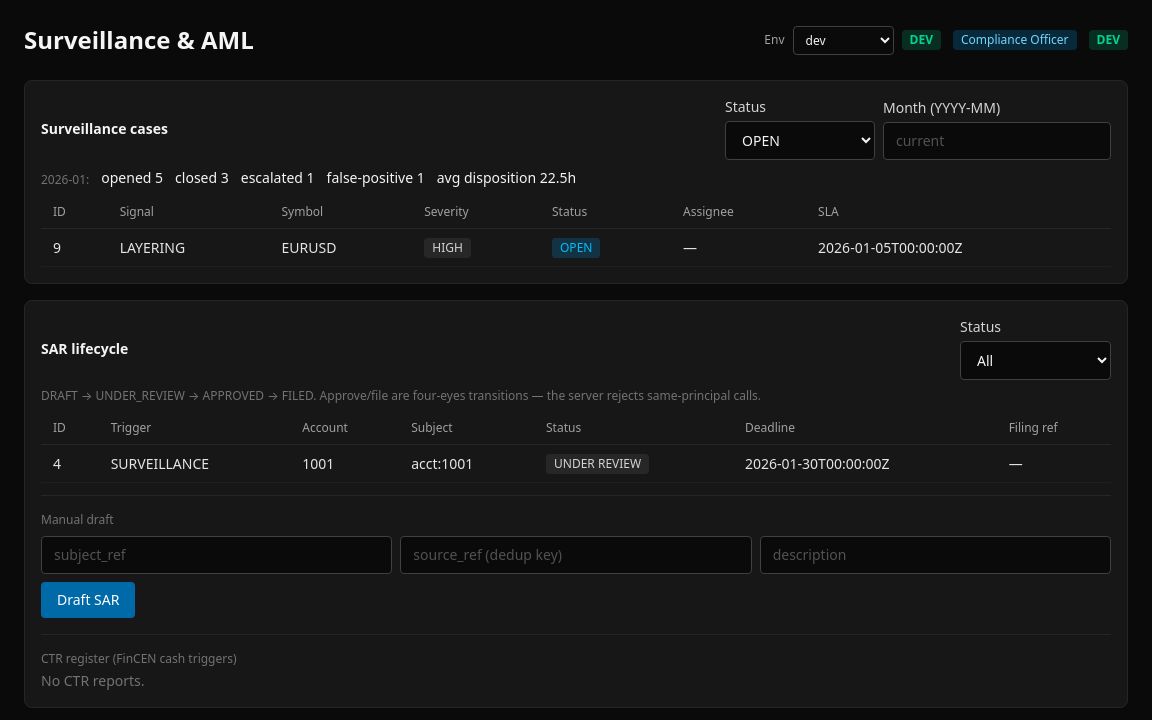
CaseDeskPage › walks case → workspace → ESCALATE_SAR disposition
The width and height of the screenshot is (1152, 720).
Click the text "LAYERING" at (189, 248), box [108,228,270,266]
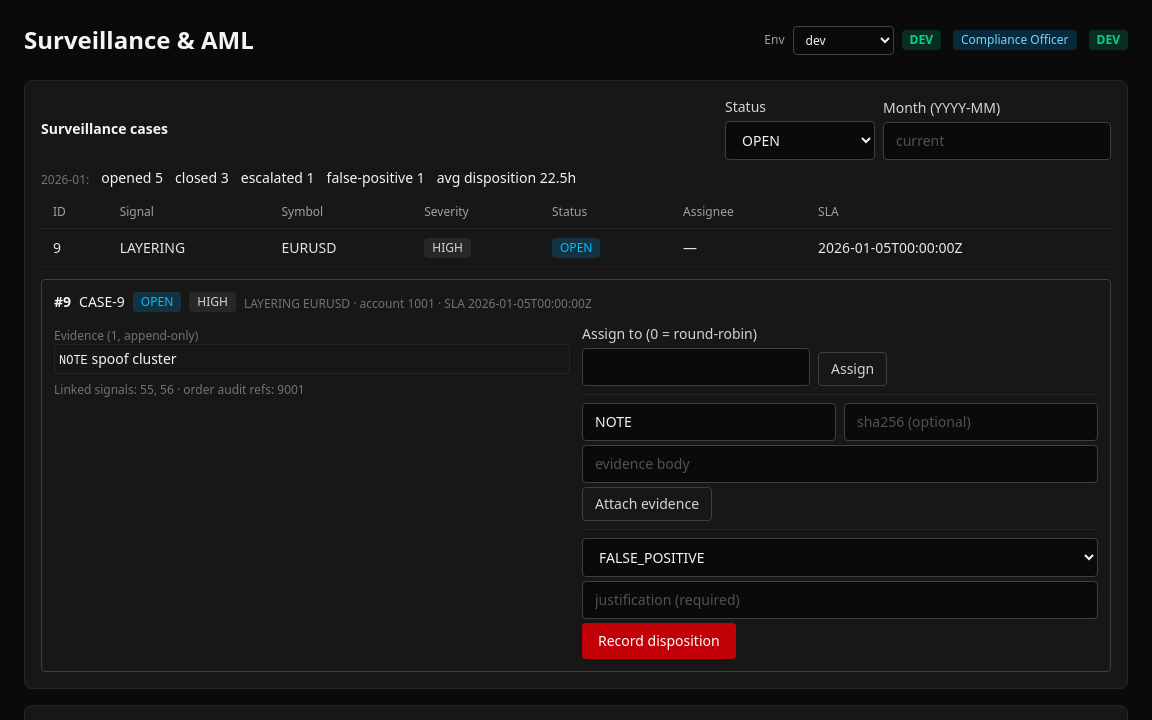
Now the list item "spoof cluster" is shown, box [92,349,177,368]
Now the text "Linked signals: 55, 56 · order audit refs: 9001" is shown, box [54,381,305,398]
Select "ESCALATE_SAR" in the dropdown named "Disposition" at (840, 558), box [582,538,1098,577]
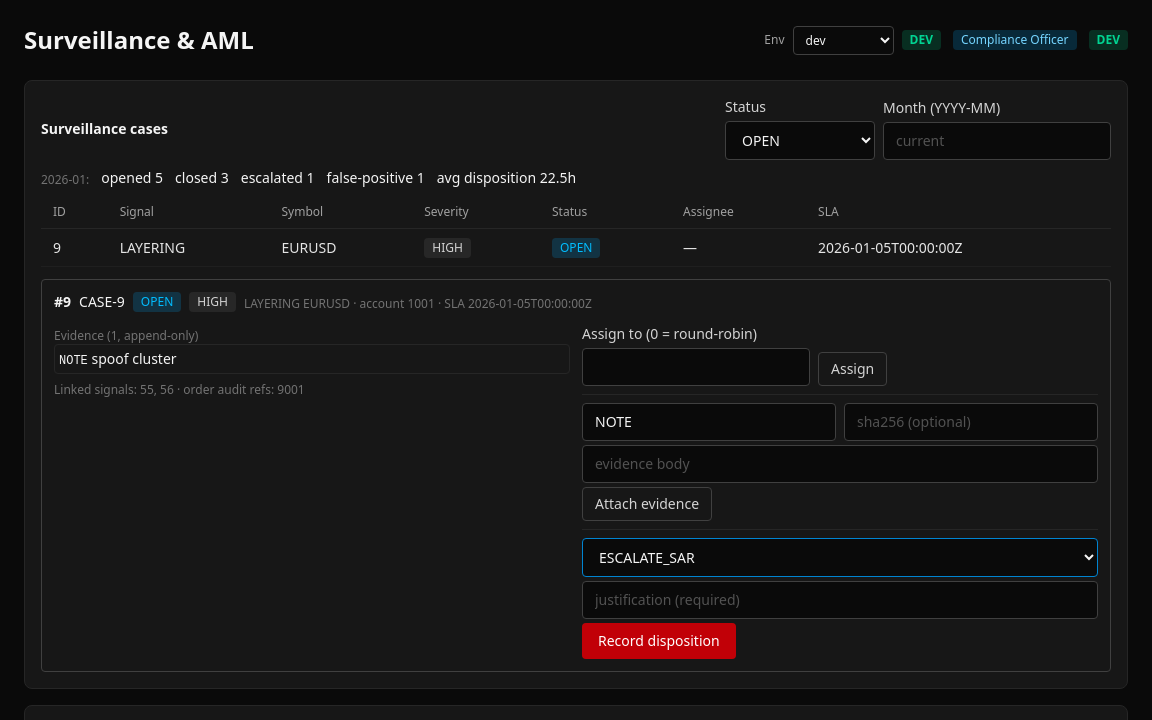
Type "confirmed layering" into the field named "Disposition reason" at (840, 600), box [582,581,1098,619]
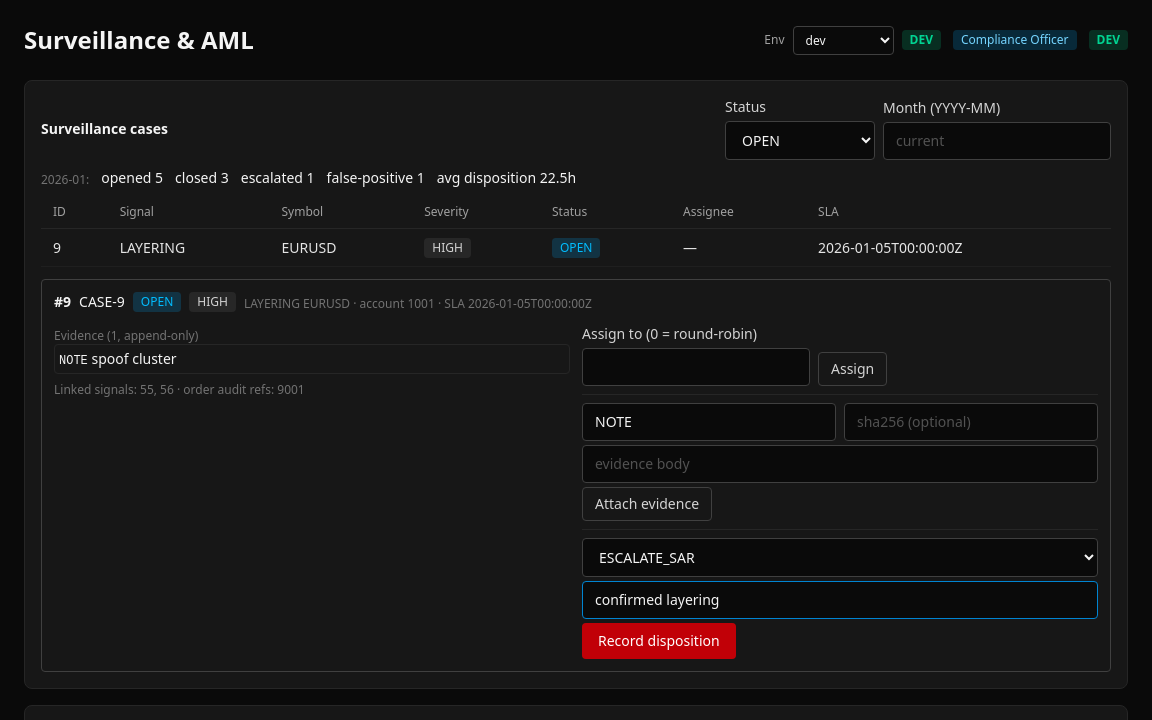
Click the button "Record disposition" at (659, 641), box [582,623,736,659]
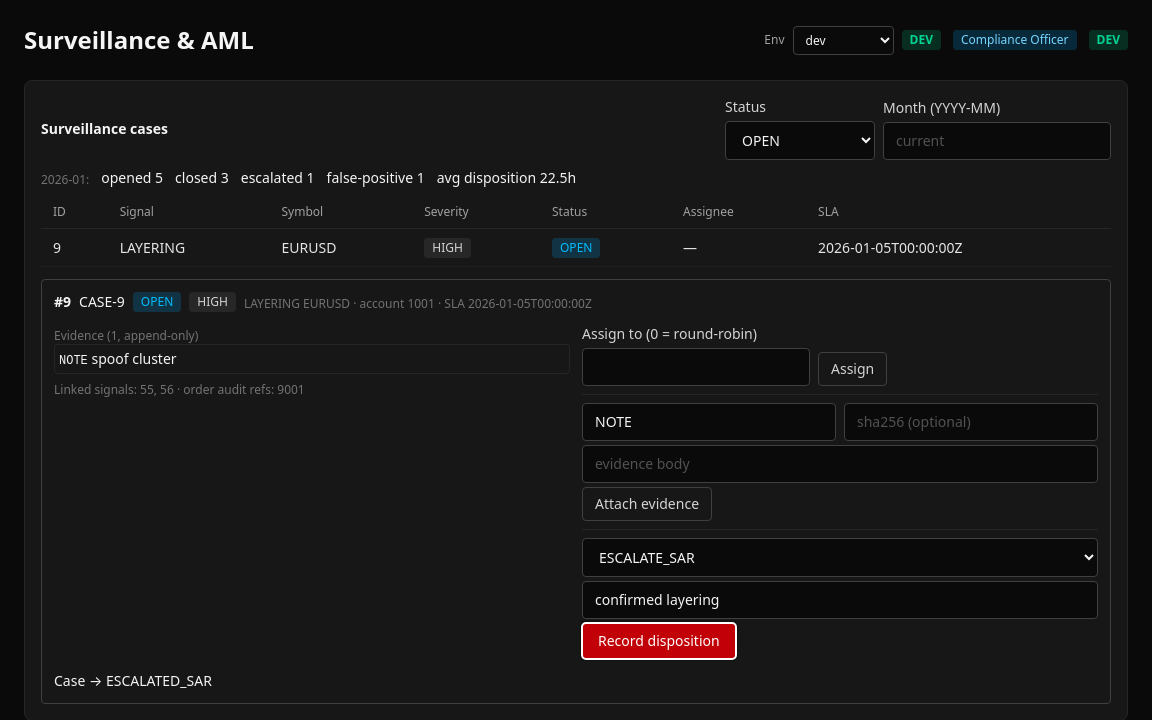
Now the text "Case → ESCALATED_SAR" is shown, box [54,671,212,690]
